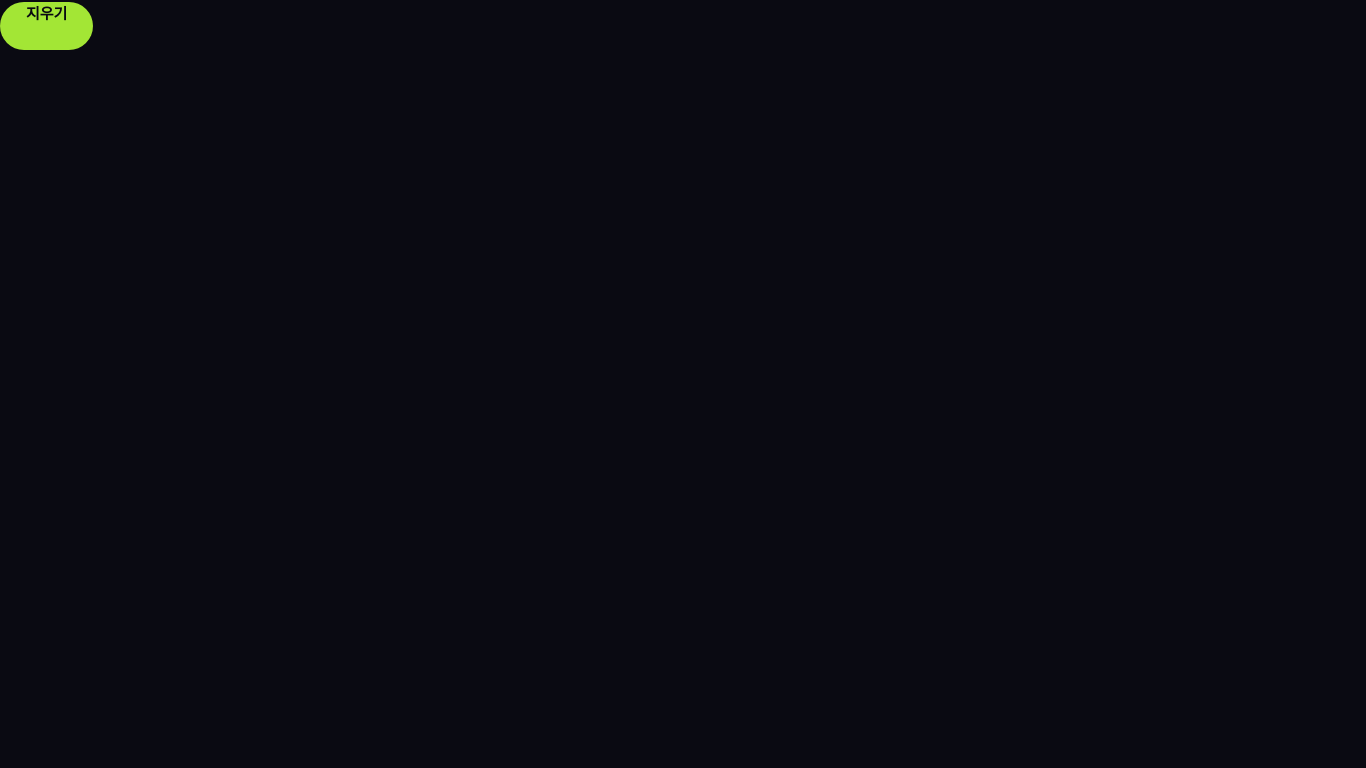
addConfirmDialog › 실행 버튼을 누르면 onConfirm 을 부르고 창을 닫는다
Click the button "지우기".
click(47, 26)  # box top-left (0, 2), bottom-right (93, 50)
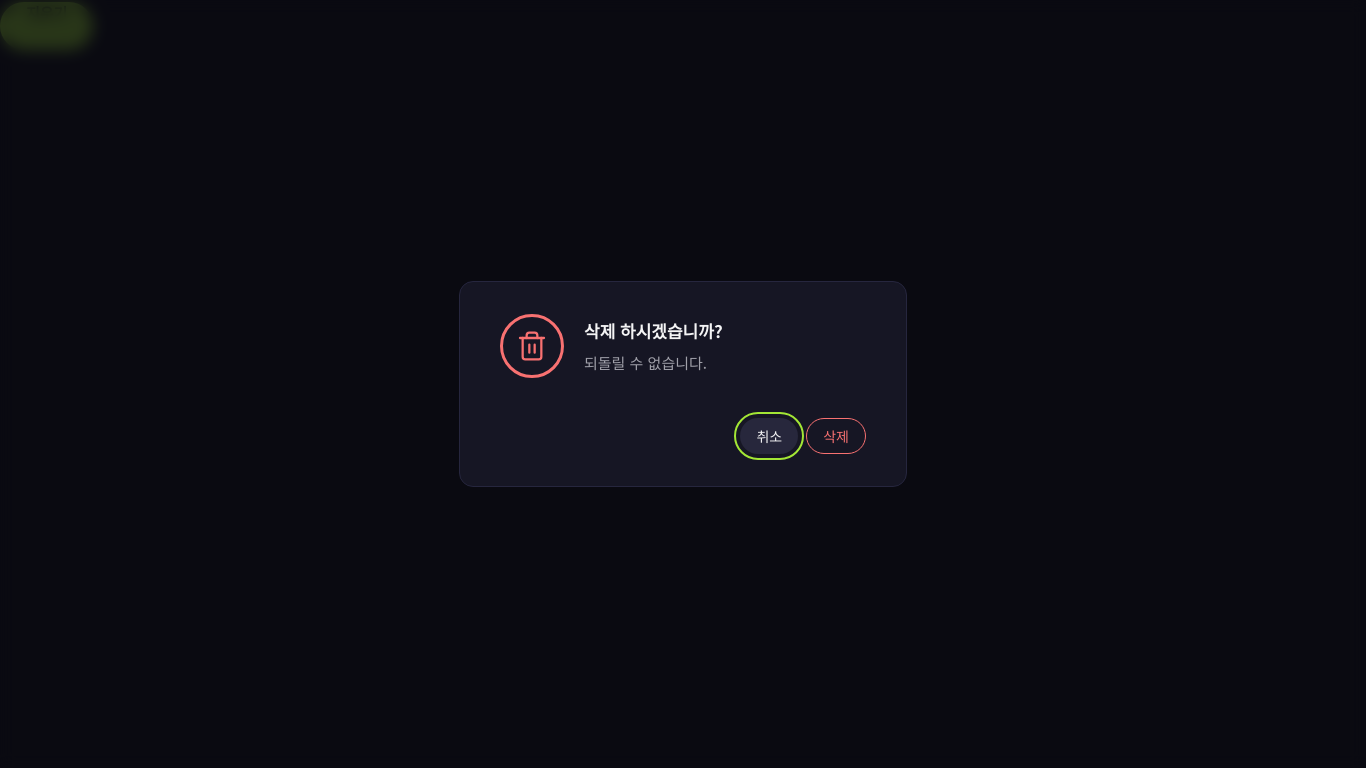
Click the button "삭제".
click(836, 436)  # box top-left (806, 418), bottom-right (866, 454)
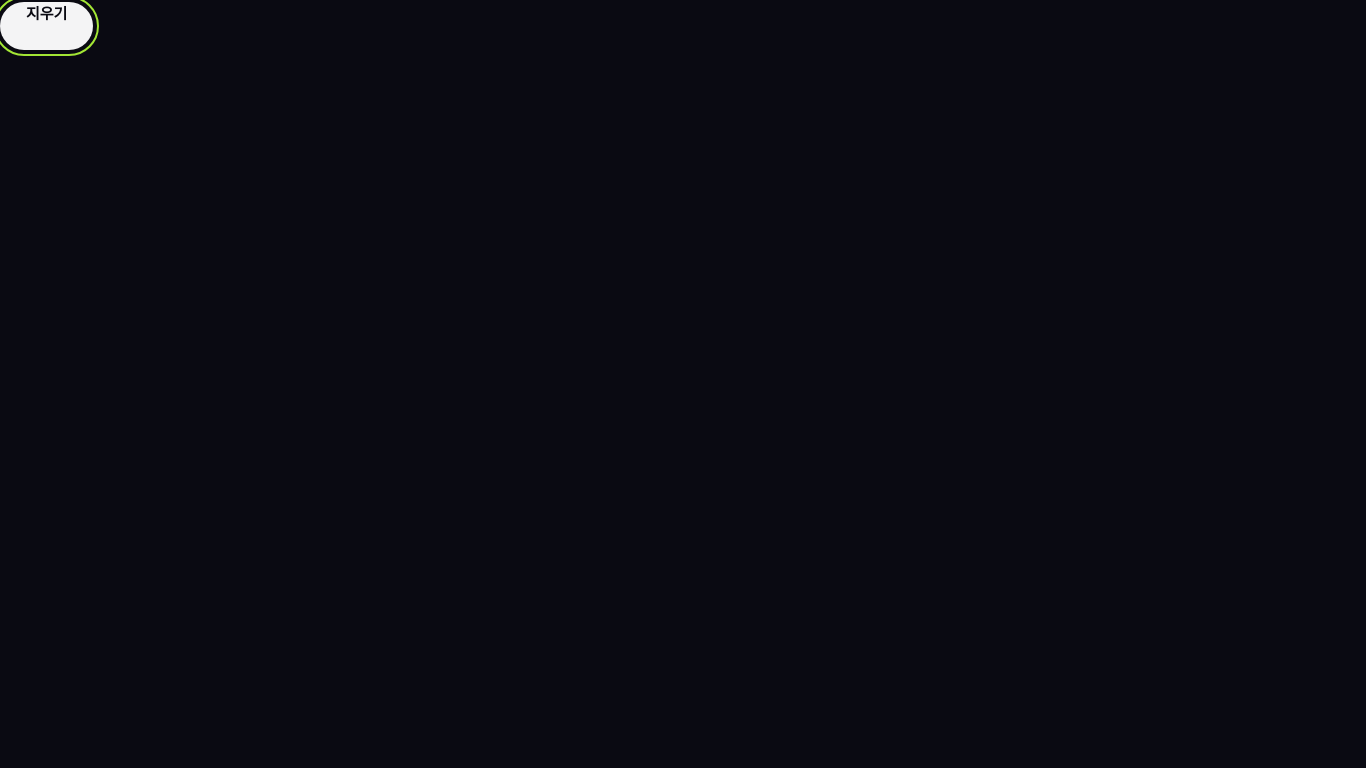
Expected: the dialog is gone
